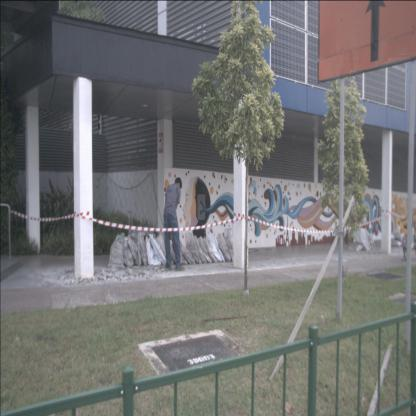vehicle-bicycle: (402, 211, 415, 263)
